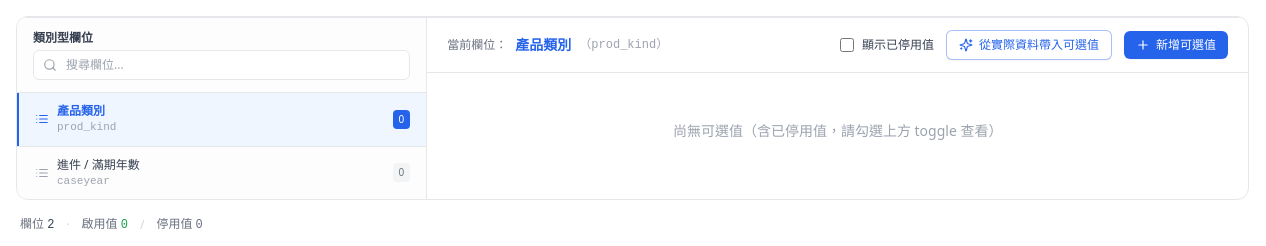
Test case: OptionsTab — master-detail 兩欄佈局（對齊 prototype 37-base-code.html L242-323） › options-tab-6：點選左欄欄位切換 detail + 更新 URL ?col=
Click the button with test id "column-item-caseyear".
click(98, 164)  # box [17,146,426,199]
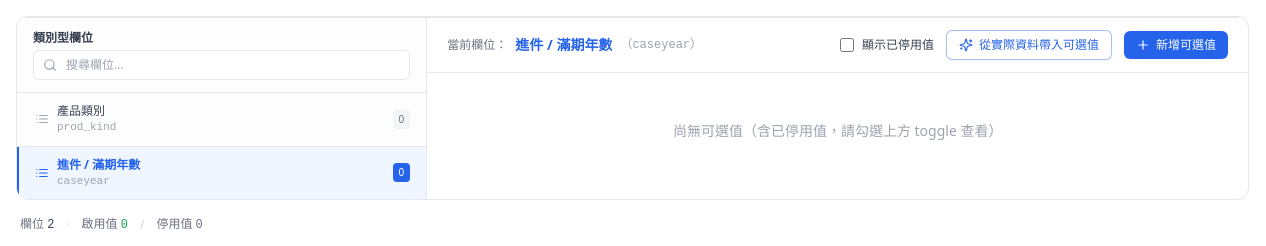
Expected: the text with test id "current-column-name" shows "caseyear", [632,38,690,52]
